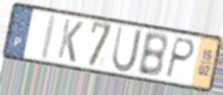7: (88, 19, 114, 69)
B: (135, 32, 169, 79)
I: (38, 12, 59, 62)
K: (55, 17, 85, 65)
P: (163, 35, 197, 81)
U: (110, 24, 144, 74)
